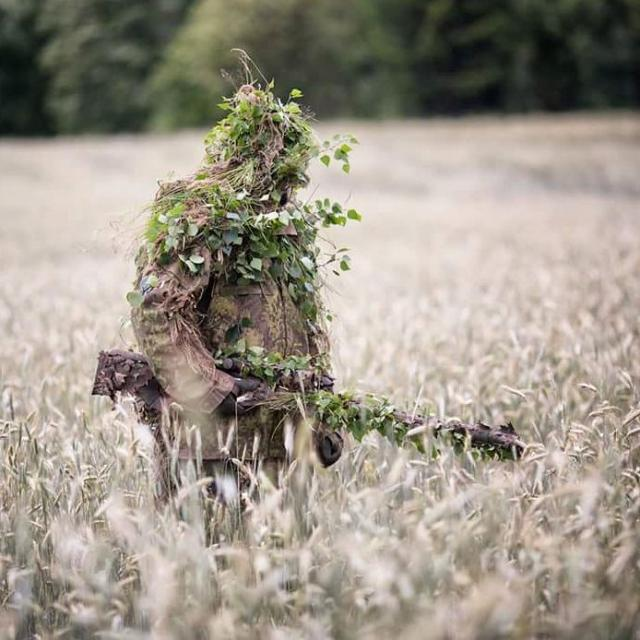Camouflage: (94, 77, 533, 530)
